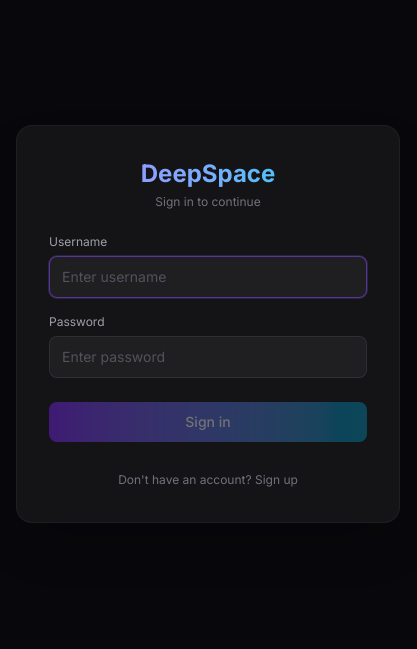
Scenario: LoginScreen › should show error when password is too short
The width and height of the screenshot is (417, 649).
Click the button "Don't have an account? Sign up" at (208, 480), box [118, 472, 298, 488]
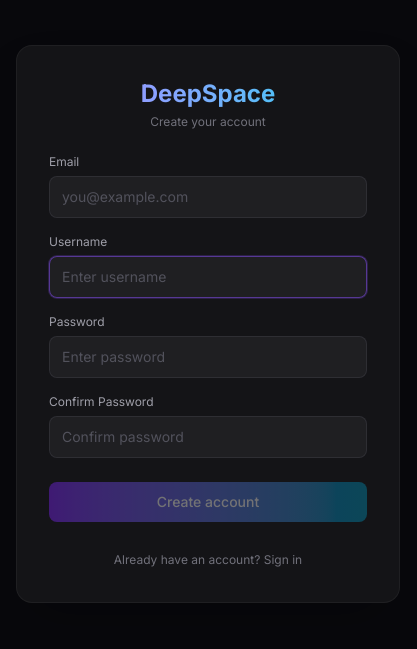
Type "test@test.com" into the field with placeholder "you@example.com" at (208, 197), box [49, 176, 367, 218]
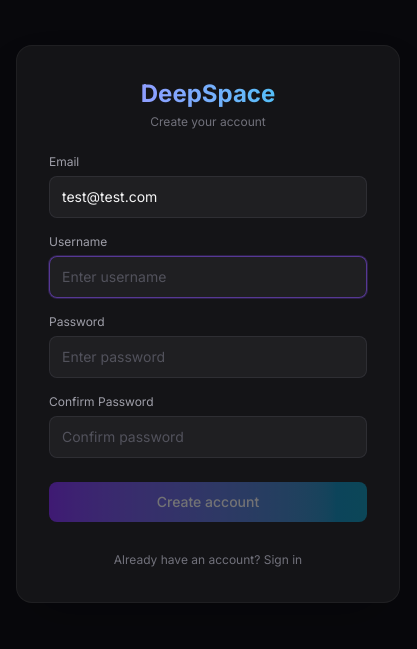
Type "newuser" into the field with placeholder "Enter username" at (208, 277), box [49, 256, 367, 298]
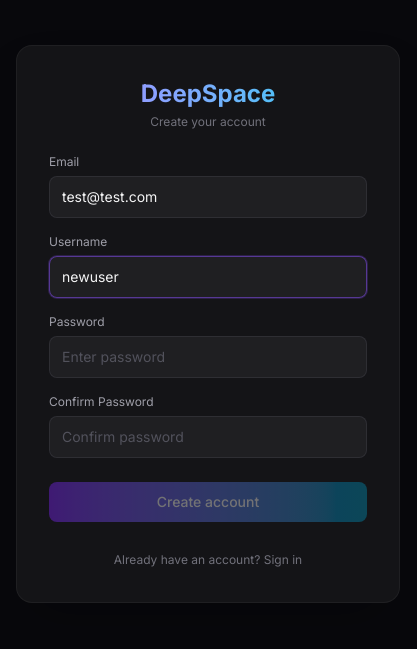
Type "short" into the password field with placeholder "Enter password" at (208, 357), box [49, 336, 367, 378]
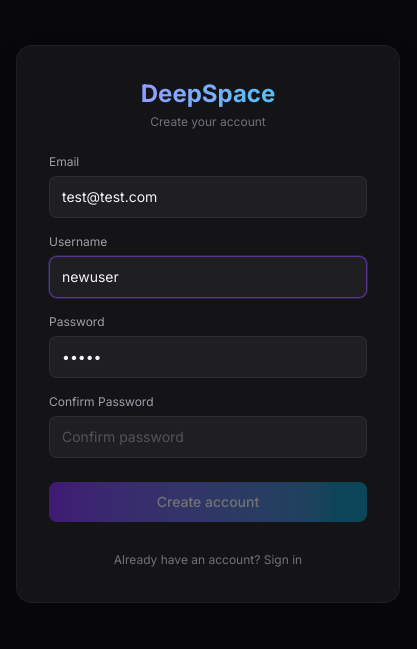
Type "short" into the password field with placeholder "Confirm password" at (208, 437), box [49, 416, 367, 458]
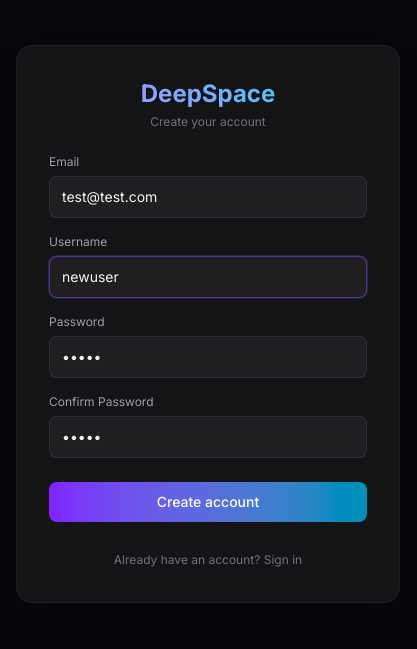
Click the button "Create account" at (208, 502), box [49, 482, 367, 522]
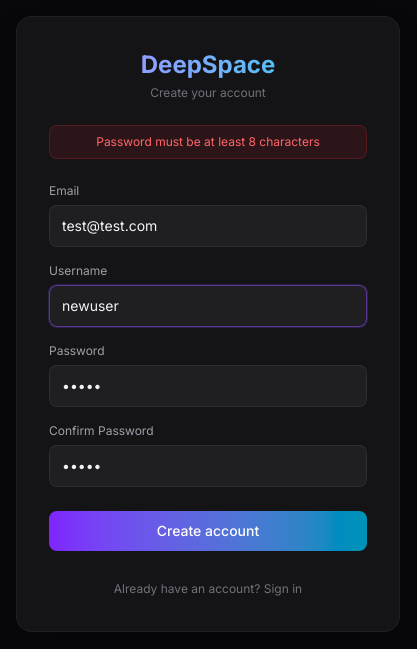
Result: the text "Password must be at least 8 characters" is shown at [49, 125, 367, 159]
